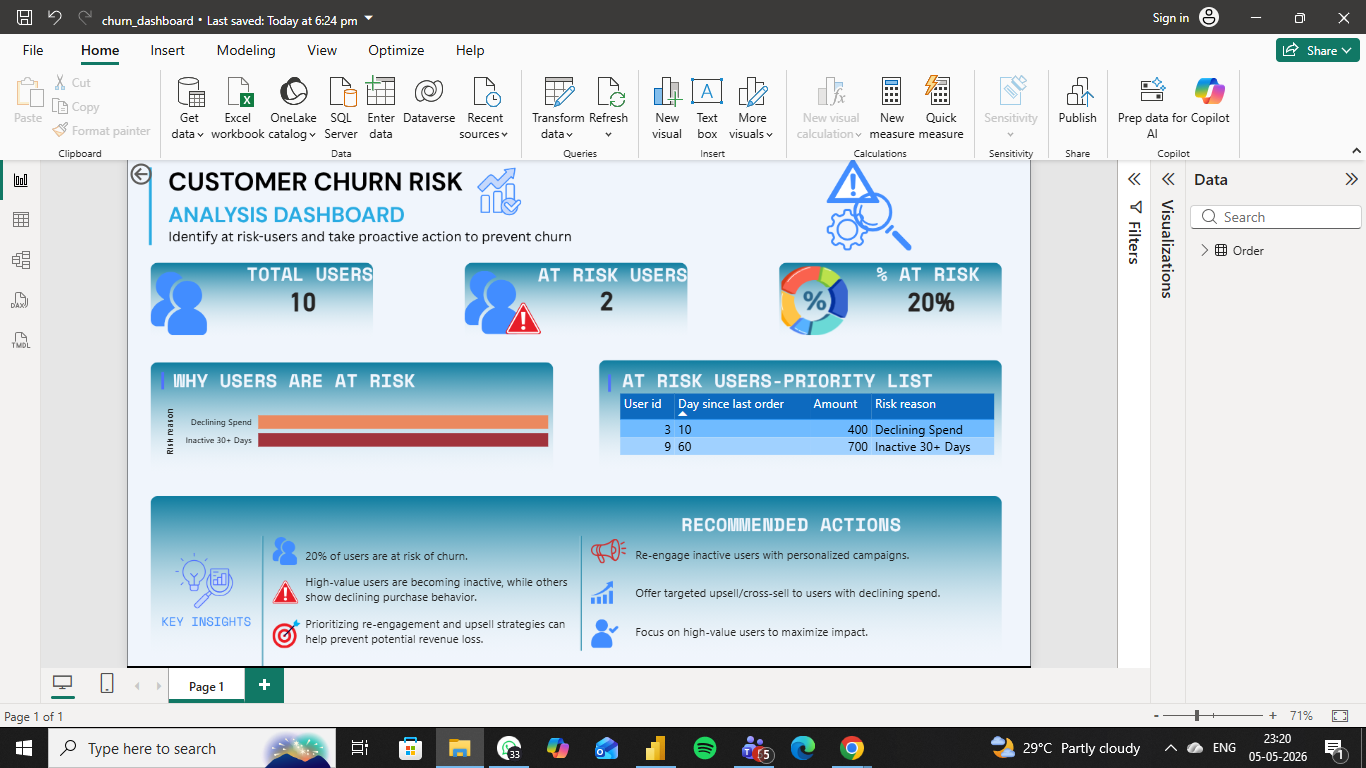

The page's visual inventory and layout, read from the dashboard file:
{"tool":"powerbi","page":{"name":"Page 1","canvas":[1280,720],"ordinal":0},"visuals":[{"type":"card","title":"Total count","fields":{"Values":["Order.total_count"]},"box":[152.9,149.5,191.5,97.4],"z":0},{"type":"card","fields":{"Values":["Order.risk_users"]},"box":[569.4,147.8,220.1,97.4],"z":1000},{"type":"actionButton","box":[0,0,100,40],"z":2000},{"type":"card","fields":{"Values":["Order.% of risk_users"]},"box":[1043.1,149.5,193.2,97.4],"z":3000},{"type":"clusteredBarChart","title":"Risk Distribution by User","fields":{"Y":["CountNonNull(Order.user_id)"],"Category":["Order.risk_reason"]},"box":[50.4,325.9,551,109.2],"z":4000},{"type":"tableEx","fields":{"Values":["Order.user_id","Order.day_since_last_order","Order.amount","Order.risk_reason"]},"box":[693.8,325.9,542.6,109.2],"z":5000},{"type":"textbox","box":[248.6,527.5,391.4,171.3],"z":6000},{"type":"textbox","box":[715.6,542.6,542.6,149.5],"z":6001}]}

Visuals, with their boxes on the page's 1280x720 design canvas (x1, y1, x2, y2). These are canvas units, not pixel positions in the 1366x768 screenshot, which may show the page scaled, cropped or inside an application window:
"Total count" card: {"x1": 153, "y1": 150, "x2": 344, "y2": 247}
card - Order.risk_users: {"x1": 569, "y1": 148, "x2": 790, "y2": 245}
actionButton: {"x1": 0, "y1": 0, "x2": 100, "y2": 40}
card - Order.% of risk_users: {"x1": 1043, "y1": 150, "x2": 1236, "y2": 247}
"Risk Distribution by User" clusteredBarChart: {"x1": 50, "y1": 326, "x2": 601, "y2": 435}
tableEx - Order.user_id x Order.day_since_last_order: {"x1": 694, "y1": 326, "x2": 1236, "y2": 435}
textbox: {"x1": 249, "y1": 528, "x2": 640, "y2": 699}
textbox: {"x1": 716, "y1": 543, "x2": 1258, "y2": 692}
